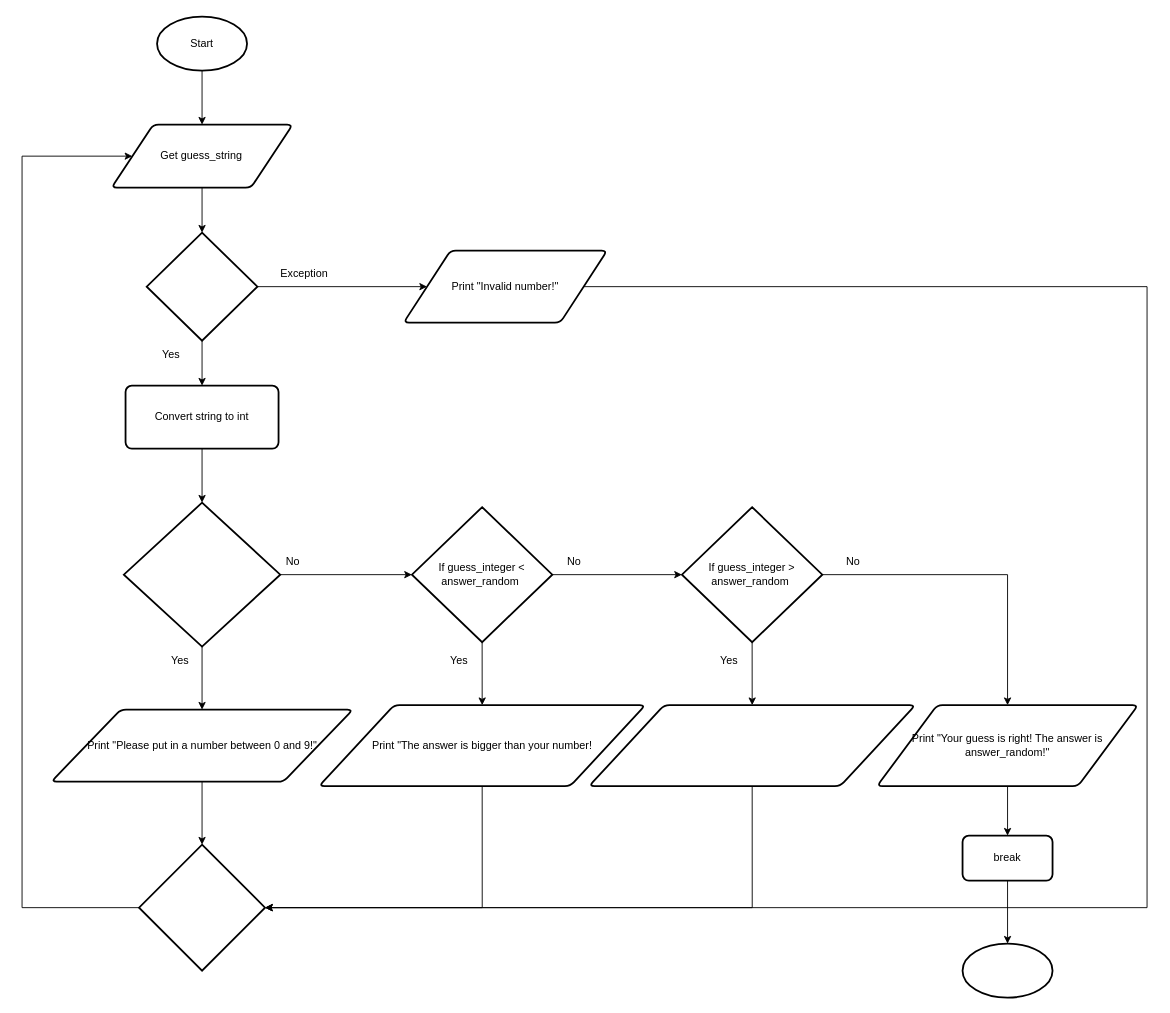
This 1170x1013 diagram has some shape labels left out. The centre of each missing label's shape, as x and y in pixels:
If guess_integer < 0 || guess_integer > 9: [201,574]
Print "The answer is smaller than your number!: [752,745]
Stop: [1007,970]
try: [201,286]
While True: [202,907]
